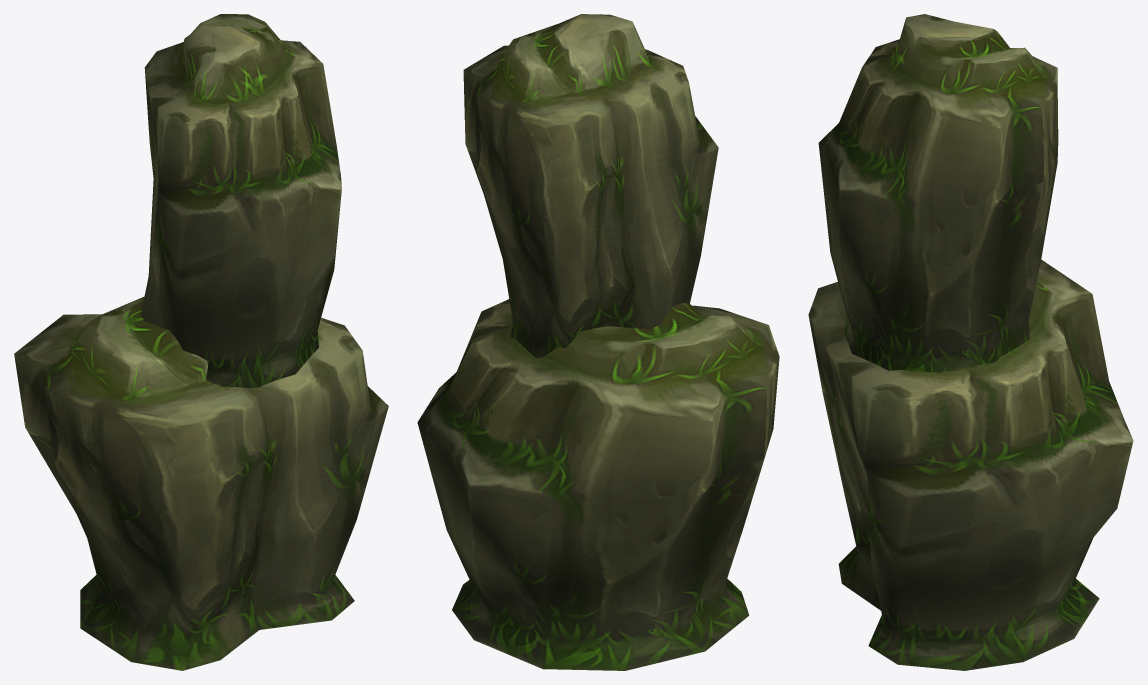
Rendered from Rock_Formation_02_06.fbx.
3 renders of one model, left to right at view 1: azimuth 30°, elevation 25°; view 2: azimuth 150°, elevation 25°; view 3: azimuth 270°, elevation 25°, orthographic. The views are drawn at different scales.
Parts seen in each view (by area): view 1: Rock_Formation_02_06; view 2: Rock_Formation_02_06; view 3: Rock_Formation_02_06.
Part boxes in pixels (x1,y1,x2,y2): Rock_Formation_02_06: (14, 14, 388, 670); Rock_Formation_02_06: (417, 14, 779, 670); Rock_Formation_02_06: (808, 14, 1133, 670).
Size of the model in its own units: 155 by 263 by 132.
